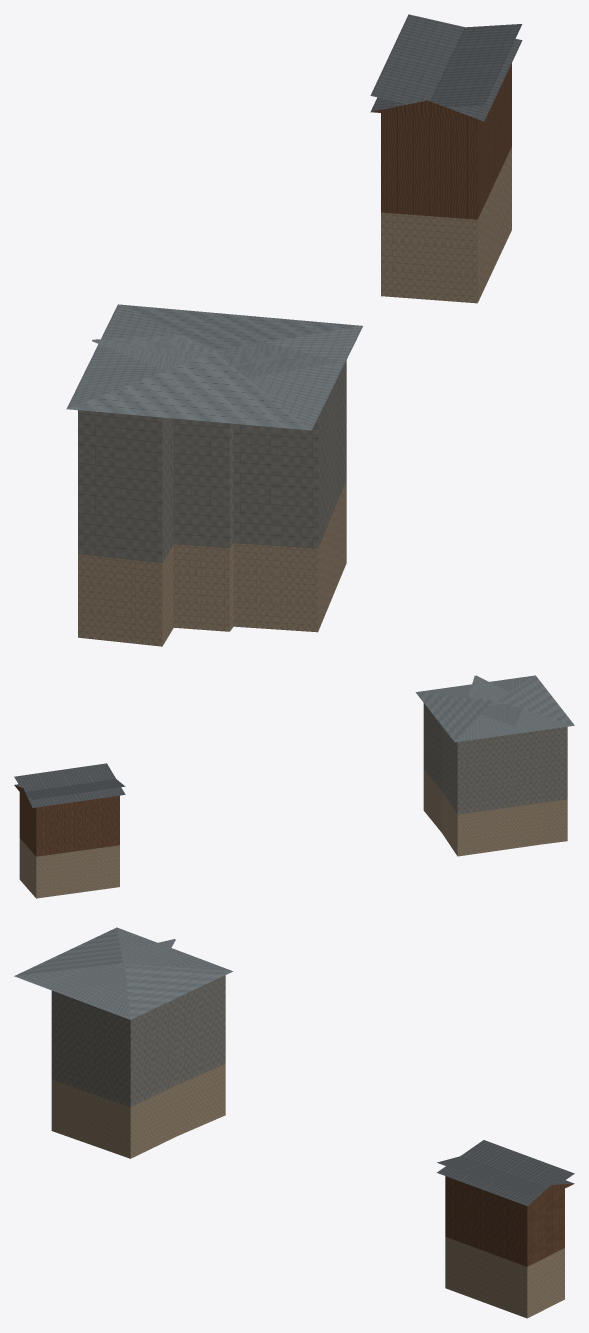
The model's file is bld_c-23_10_549.gltf.
3 renders of one model, top to bottom at view 1: azimuth 30°, elevation 25°; view 2: azimuth 150°, elevation 25°; view 3: azimuth 270°, elevation 25°, orthographic. The views are drawn at different scales.
Parts seen in each view (by area): view 1: bld_c-23_10_549; view 2: bld_c-23_10_549; view 3: bld_c-23_10_549.
Part boxes in pixels (left/top/right/bottom): bld_c-23_10_549: left=66, top=14, right=522, bottom=646; bld_c-23_10_549: left=14, top=675, right=574, bottom=898; bld_c-23_10_549: left=14, top=927, right=574, bottom=1318.
Size of the model in its own units: 50.34 by 16.5 by 50.23.
Materials: 6 (6 with a texture image).
